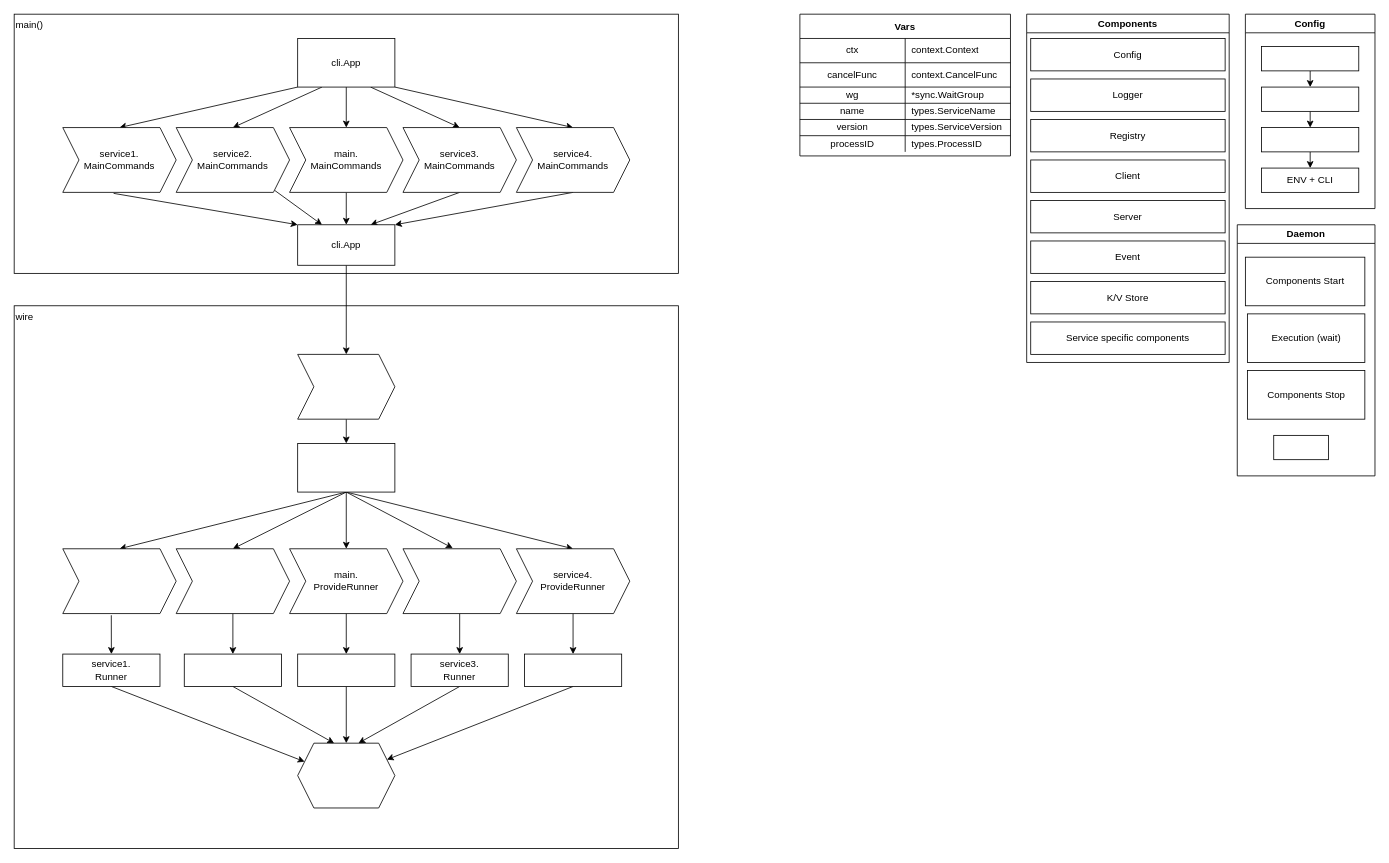
The diagram is 1389 pixels wide and 863 high, and some of its shapes have lost their labels. The centre of each missing label's shape, as x and y in pixels:
"cli.AppContext" belongs at pixel 346 467.
"cli.Provide" belongs at pixel 346 386.
"Defaults" belongs at pixel 1310 58.
"Exit" belongs at pixel 1300 447.
"From File/Remote" belongs at pixel 1310 139.
"functional Defaults" belongs at pixel 1310 98.
"main. Runner" belongs at pixel 346 669.
"Run" belongs at pixel 346 775.
"service1. ProvideRunner" belongs at pixel 119 581.
"service2. ProvideRunner" belongs at pixel 232 581.
"service2. Runner" belongs at pixel 232 669.
"service3. ProvideRunner" belongs at pixel 459 581.
"service4. Runner" belongs at pixel 573 669.
